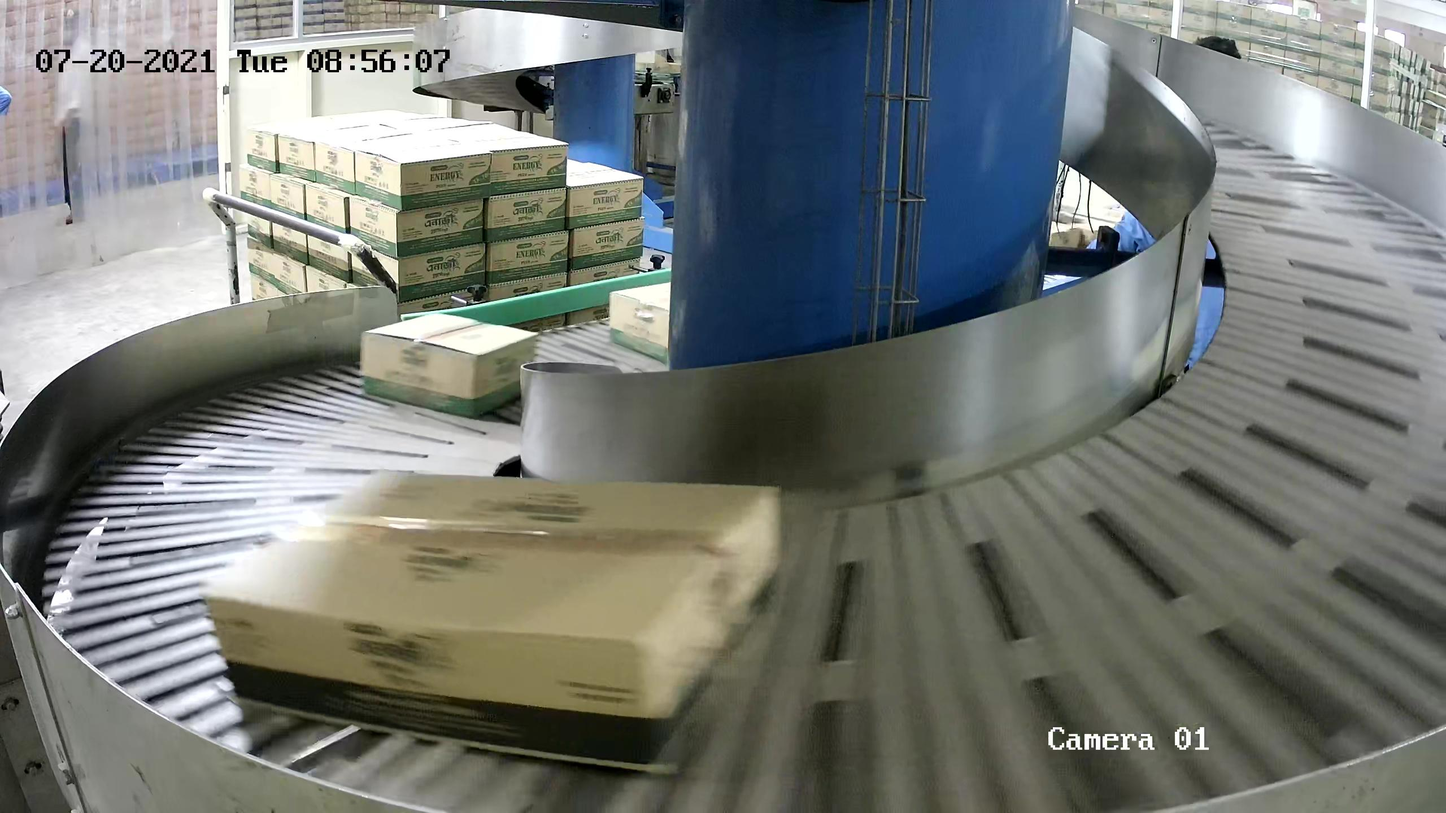Box: (204, 465, 789, 782), (359, 310, 541, 422), (610, 274, 722, 370)
